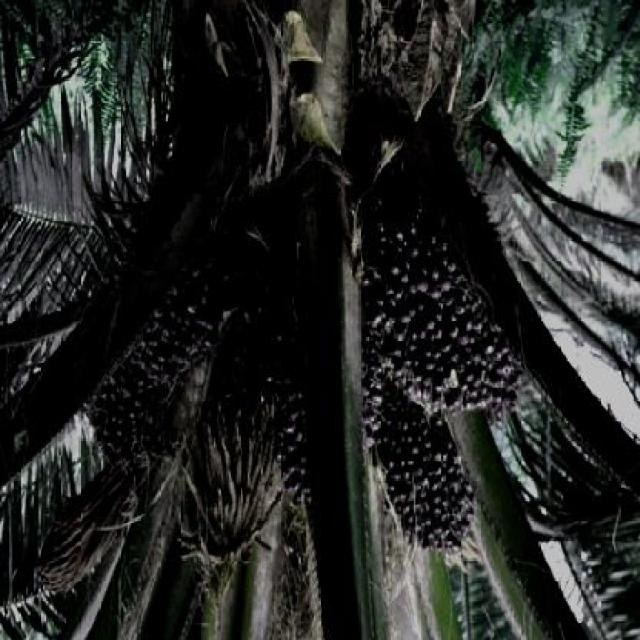palm-oil: (343, 202, 540, 416), (367, 376, 488, 554)
